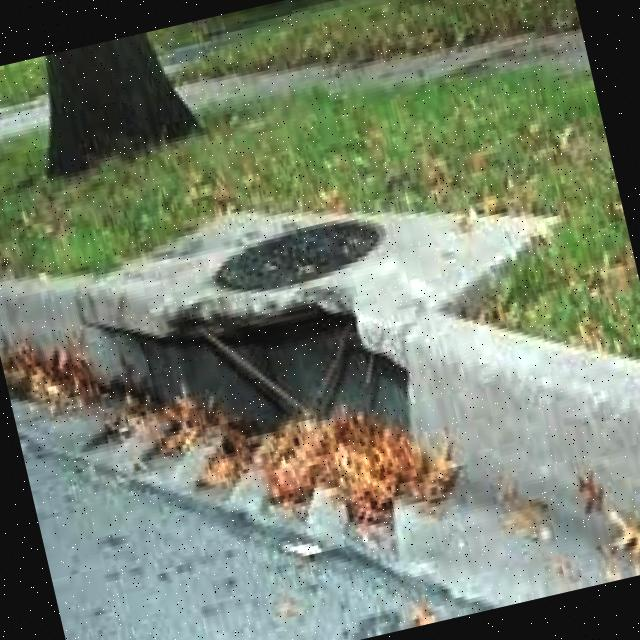curb: (1, 292, 640, 608)
